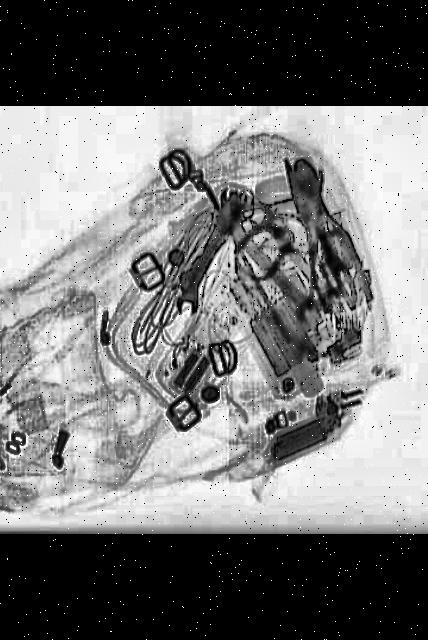Pliers: (277, 156, 379, 316)
Wrench: (170, 202, 254, 321)
